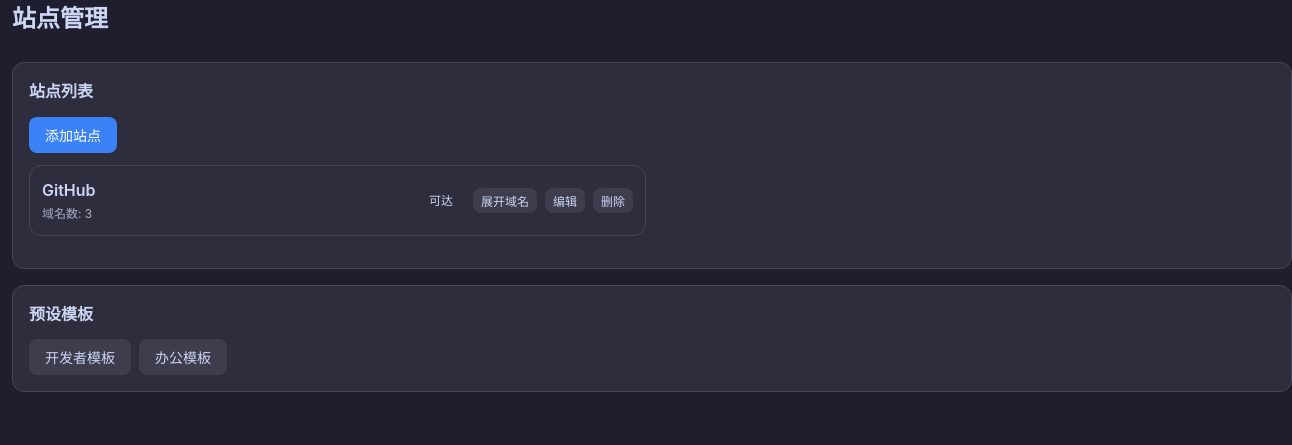
SitesPage › shows domain list when site card is expanded
Note: Click expand button for github
Click the button "展开域名". click: (505, 200)
box: [473,188,537,213]
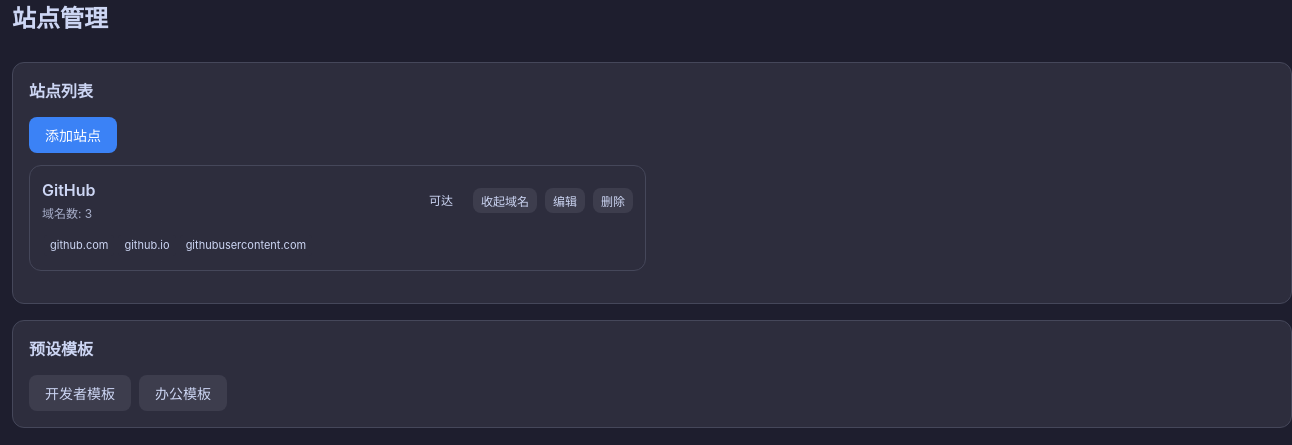
Check: the text "github.com" is shown, box [44,235,114,256]
Check: the text "github.io" is shown, box [118,235,176,256]
